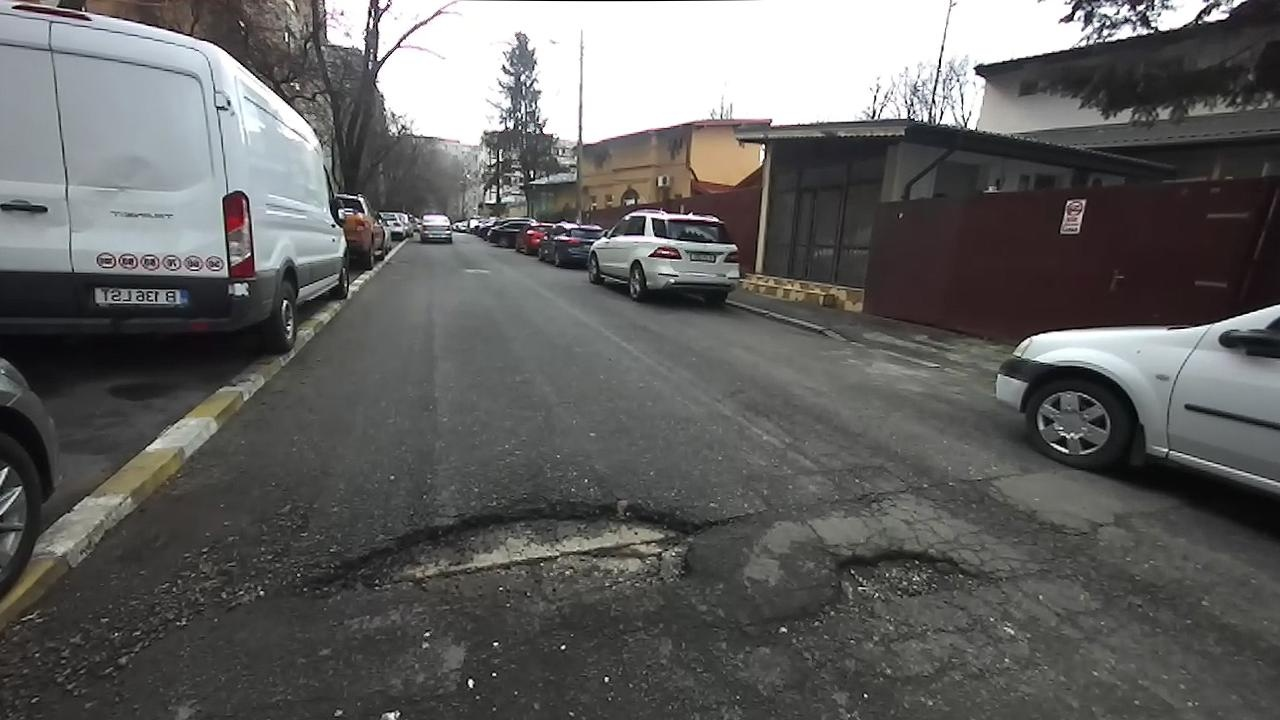pothole: (282, 494, 725, 628), (783, 539, 993, 628)
